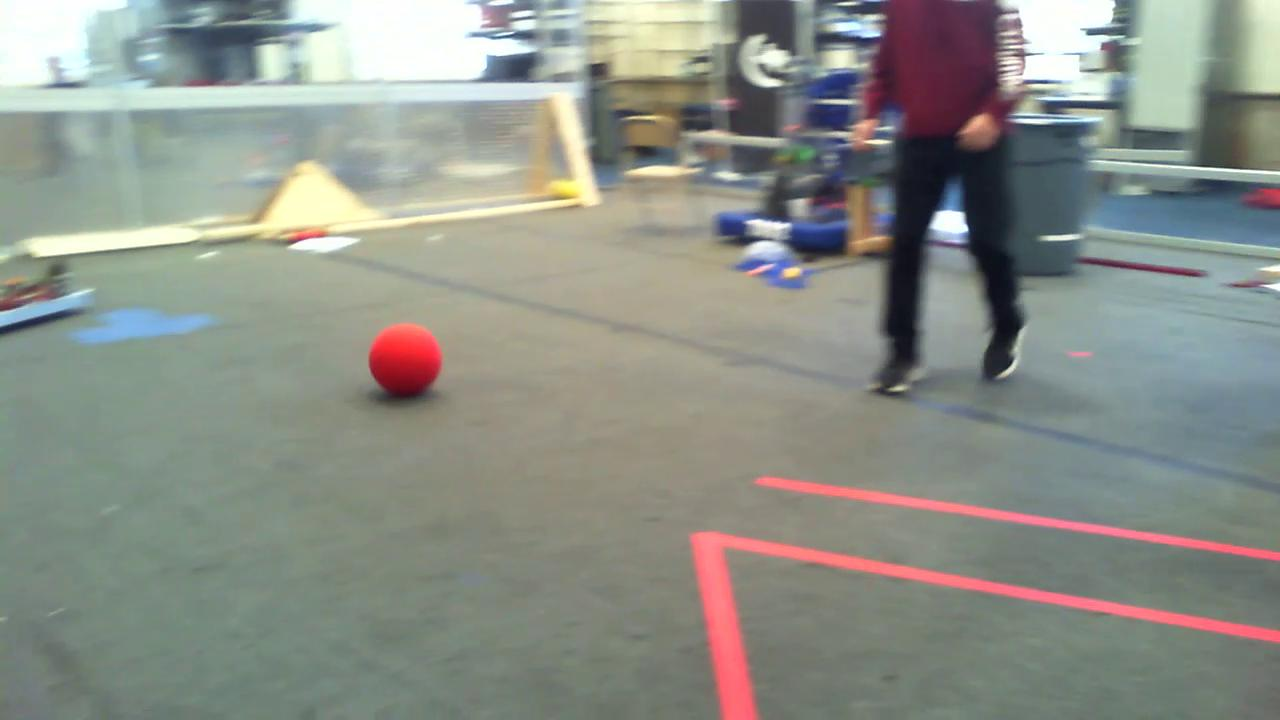Red_Ball: (366, 319, 441, 405)
